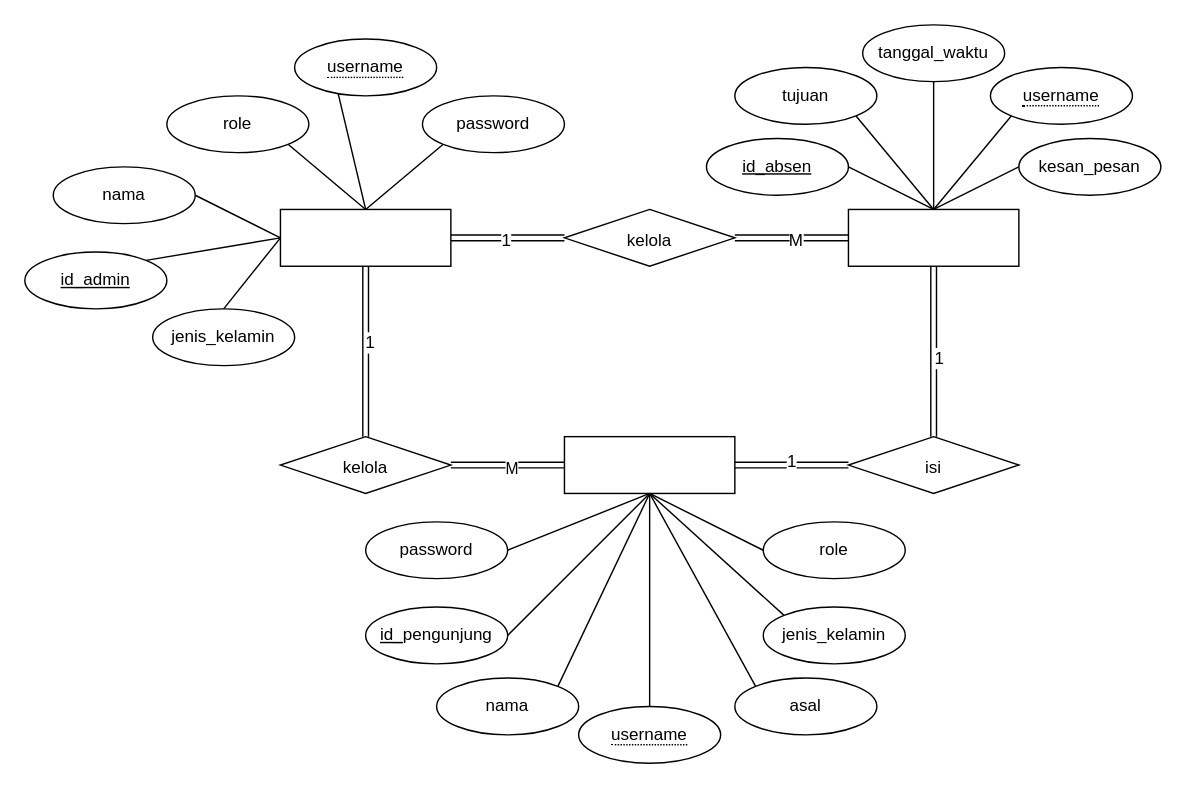
The diagram is 1186 pixels wide and 788 high, and some of its shapes have lost their labels. Each missing label, with the centre of its shape:
absen: point (933, 237)
admin: point (365, 237)
pengunjung: point (649, 464)
